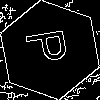P: (25, 25, 78, 66)
